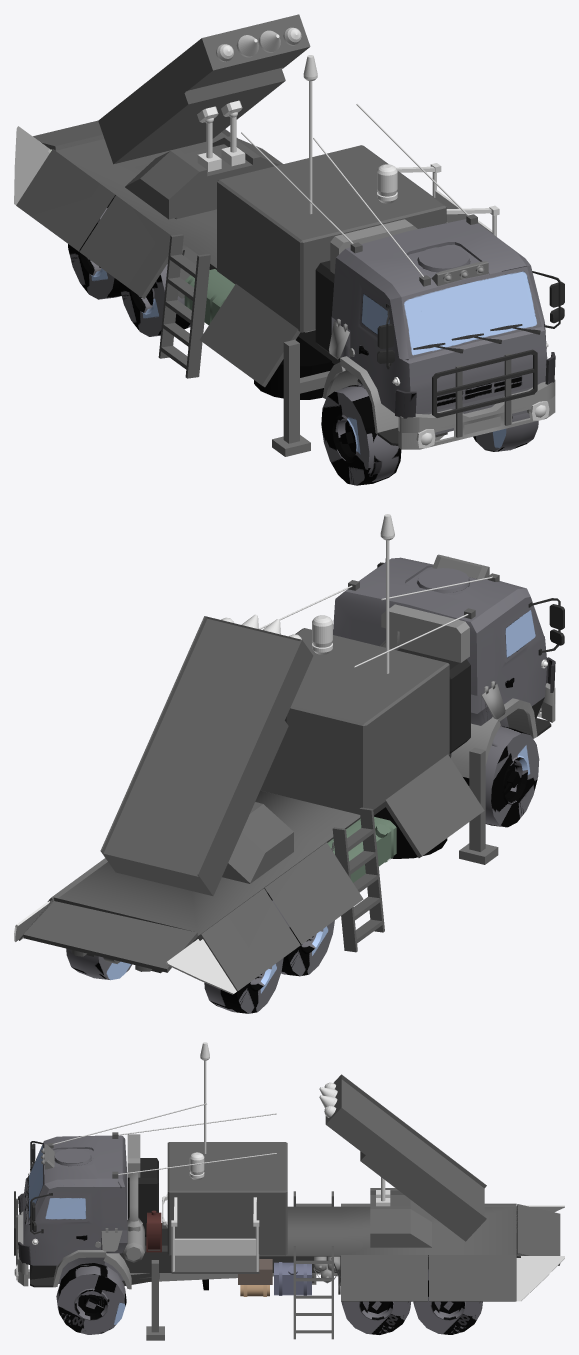
The model's file is only-cornerboard-deployed.fbx.
3 views of the same model, one above another, from view 1: azimuth 30°, elevation 25°; view 2: azimuth 150°, elevation 25°; view 3: azimuth 270°, elevation 25° (orthographic). The views are drawn at different scales.
Parts seen in each view (by area): view 1: Куб.131, Куб.136, Cube, Cube.002, Цилиндр.051, Cube.001, Cube.008, Куб.096, Cube.016, Цилиндр.053, Cube.007, Цилиндр.073 (+17 smaller); view 2: Куб.136, Cube.002, Cube, Куб.131, Цилиндр.051, Cube.008, Цилиндр.059, Cube.001, Цилиндр.001, Cube.015, Cube.016, Cube.011 (+9 smaller); view 3: Куб.136, Куб.131, Cube, Cube.002, Цилиндр.051, Cube.001, Цилиндр.001, Цилиндр.053, Цилиндр.059, Куб.118, Cube.018, Cube.010 (+17 smaller).
Part boxes in pixels (left/top/right/bottom): Куб.131: left=331, top=219, right=555, bottom=434; Куб.136: left=16, top=120, right=315, bottom=387; Cube: left=217, top=145, right=446, bottom=332; Cube.002: left=98, top=14, right=310, bottom=164; Цилиндр.051: left=321, top=384, right=538, bottom=485; Cube.001: left=125, top=136, right=283, bottom=219; Cube.008: left=158, top=234, right=210, bottom=378; Куб.096: left=398, top=379, right=555, bottom=449; Cube.016: left=272, top=339, right=329, bottom=456; Цилиндр.053: left=119, top=264, right=190, bottom=336; Cube.007: left=432, top=349, right=537, bottom=417; Цилиндр.073: left=254, top=336, right=334, bottom=399; Куб.136: left=19, top=754, right=484, bottom=991; Cube.002: left=100, top=616, right=313, bottom=895; Cube: left=260, top=628, right=449, bottom=814; Куб.131: left=333, top=557, right=555, bottom=754; Цилиндр.051: left=463, top=726, right=539, bottom=827; Cube.008: left=332, top=807, right=384, bottom=952; Цилиндр.059: left=380, top=604, right=469, bottom=662; Cube.001: left=222, top=802, right=293, bottom=883; Цилиндр.001: left=66, top=948, right=283, bottom=1013; Cube.015: left=397, top=648, right=470, bottom=753; Cube.016: left=459, top=747, right=498, bottom=864; Cube.011: left=165, top=939, right=236, bottom=994; Куб.136: left=171, top=1203, right=560, bottom=1301; Куб.131: left=18, top=1135, right=127, bottom=1283; Cube: left=167, top=1142, right=287, bottom=1255; Cube.002: left=325, top=1074, right=486, bottom=1241; Цилиндр.051: left=56, top=1263, right=126, bottom=1334; Cube.001: left=370, top=1188, right=431, bottom=1247; Цилиндр.001: left=413, top=1269, right=482, bottom=1334; Цилиндр.053: left=341, top=1301, right=410, bottom=1334; Цилиндр.059: left=123, top=1134, right=144, bottom=1262; Куб.118: left=120, top=1223, right=520, bottom=1285; Cube.018: left=174, top=1238, right=256, bottom=1255; Cube.010: left=516, top=1256, right=564, bottom=1301.
Bounding box in the file's own units: 709 × 1019 × 2029.
66 materials, 2 textured.
